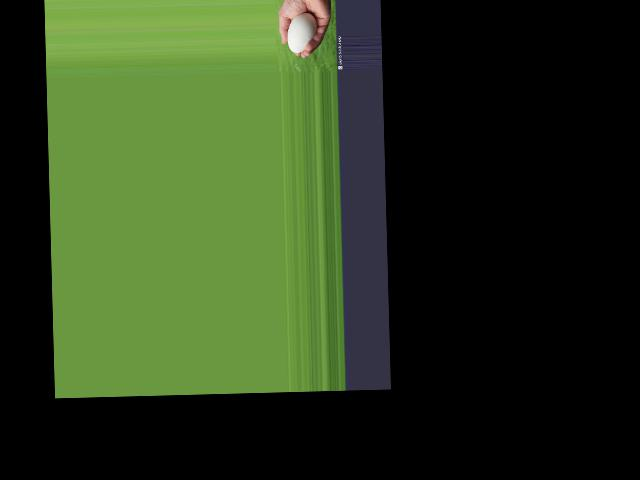egg: (286, 11, 318, 52)
